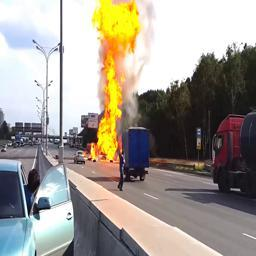fire: (91, 0, 139, 162)
